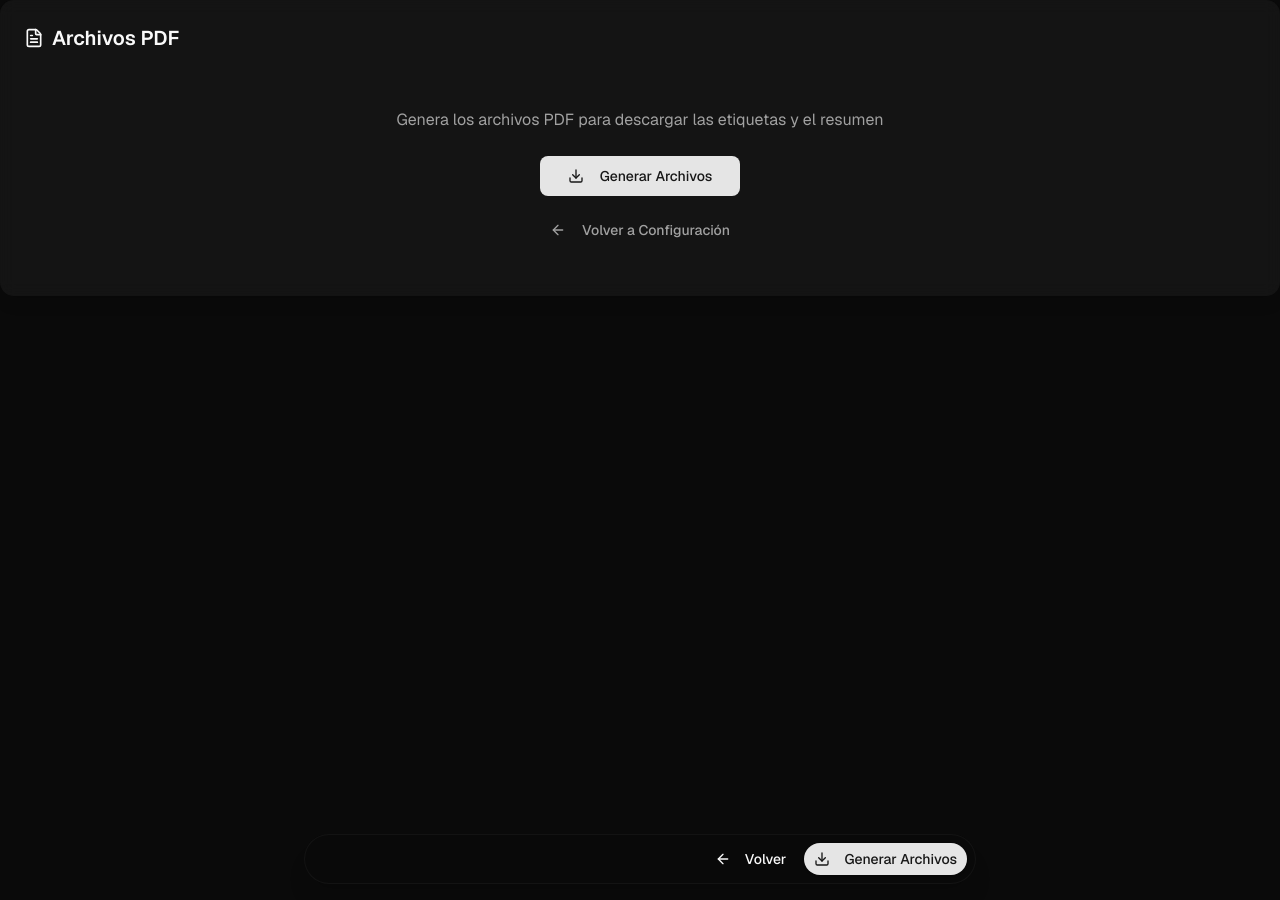
it: PdfDownloader › si la generación falla (ej. 422), entra en estado de error y no avanza
The image size is (1280, 900).
Click the 1st button "Generar Archivos": coordinates (640, 176) [540,156,740,196]
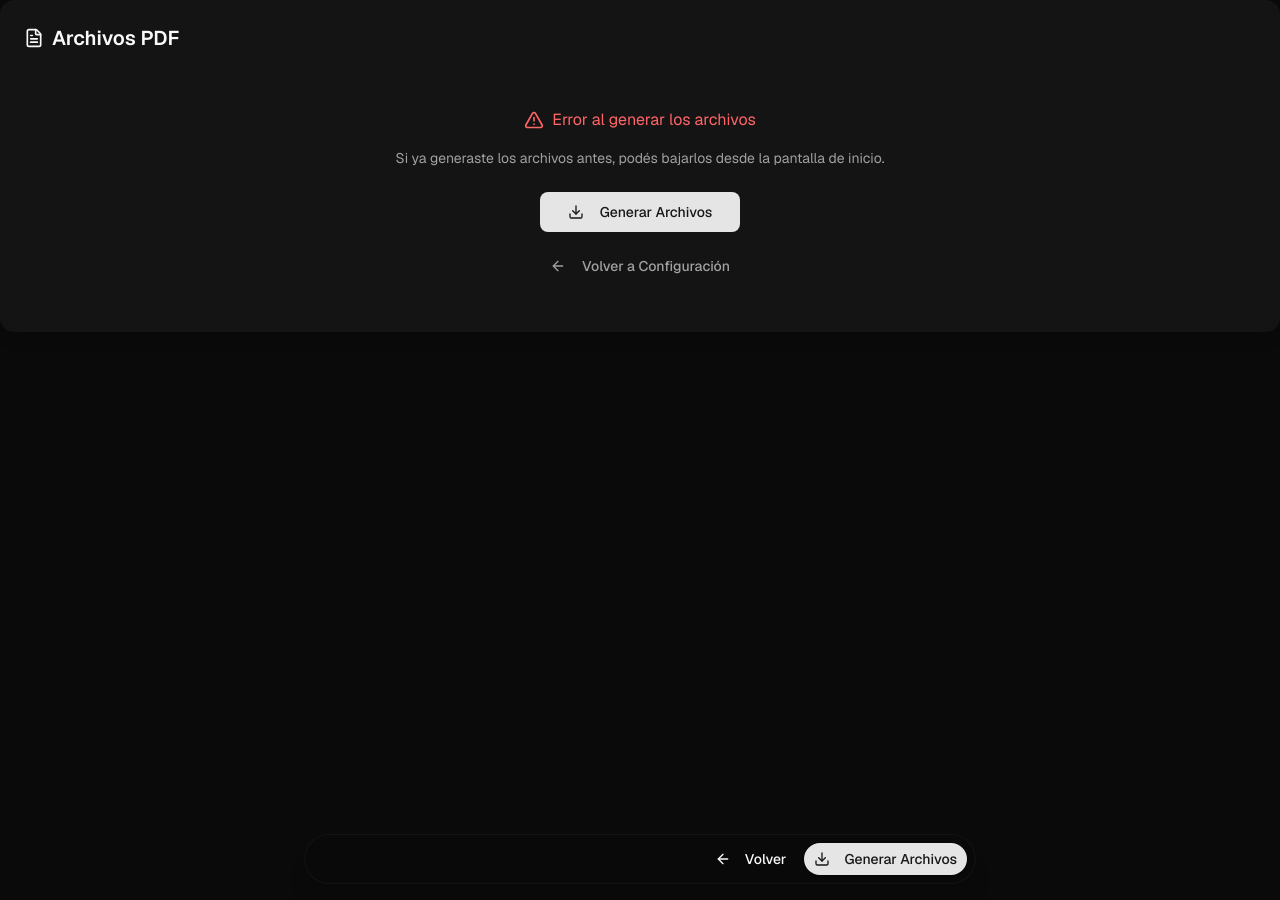
Expected: the text "Error al generar los archivos" is shown, [552,108,756,132]
